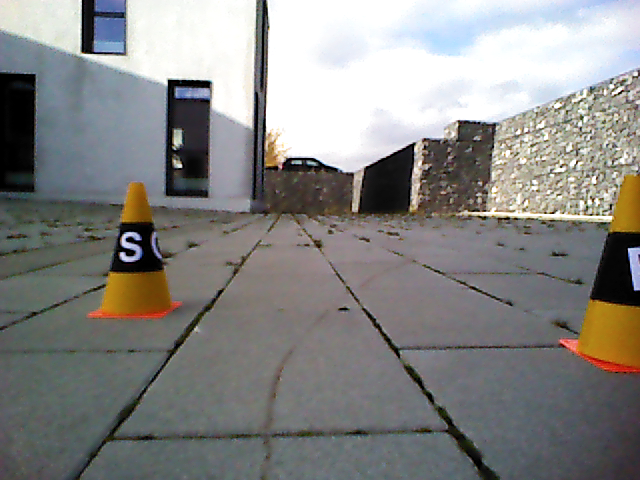yellowcone: (579, 173, 640, 365), (100, 182, 173, 315)
